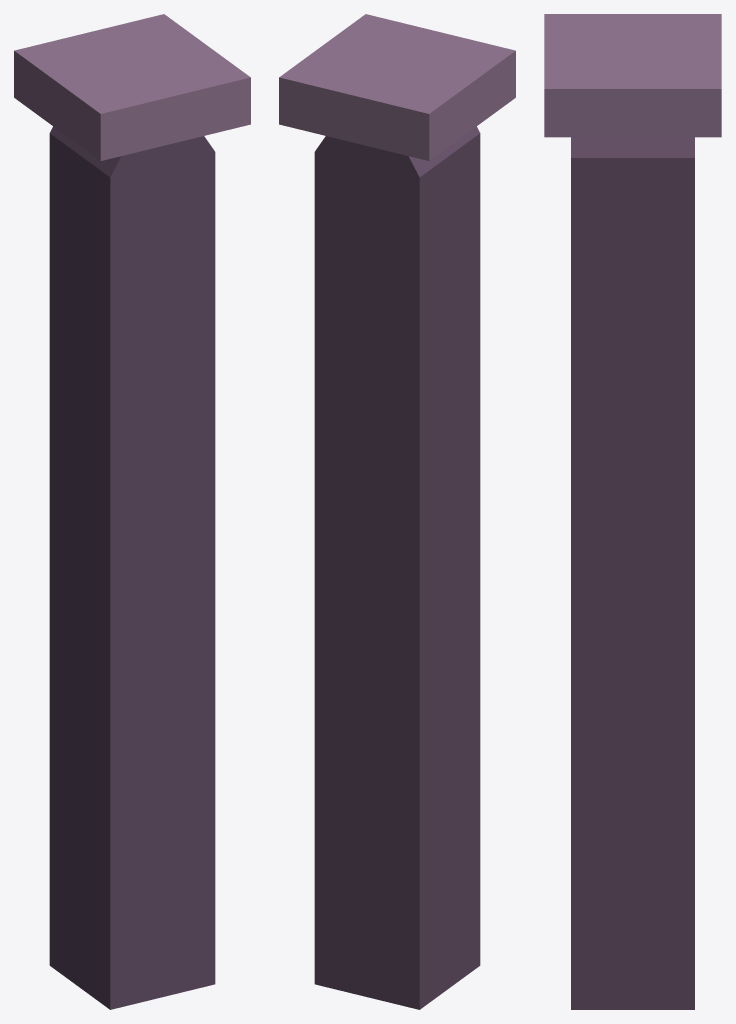
File: TW_WOOD_END_CAP_A_LOD0.glb
3 views of the same model, side by side, from view 1: azimuth 30°, elevation 25°; view 2: azimuth 150°, elevation 25°; view 3: azimuth 270°, elevation 25° (orthographic). The views are drawn at different scales.
Parts seen in each view (by area): view 1: TW_WOOD_END_CAP_A_LOD0; view 2: TW_WOOD_END_CAP_A_LOD0; view 3: TW_WOOD_END_CAP_A_LOD0.
Part boxes in pixels (x1,y1,x2,y2): TW_WOOD_END_CAP_A_LOD0: (14,14,250,1009); TW_WOOD_END_CAP_A_LOD0: (279,14,515,1009); TW_WOOD_END_CAP_A_LOD0: (544,14,721,1009).
Size of the model in its own units: 0.2 by 1.16 by 0.2.
Materials: 1 (1 with a texture image).
